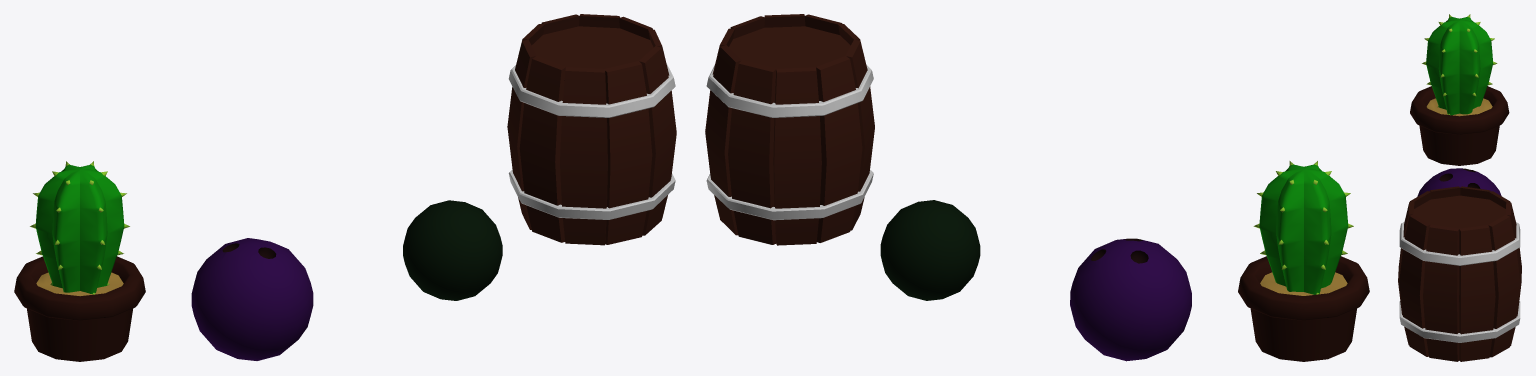
The model's file is BowlingBall.FBX.
The picture shows the model from 3 angles, left to right: view 1: azimuth 30°, elevation 25°; view 2: azimuth 150°, elevation 25°; view 3: azimuth 270°, elevation 25°; orthographic projection. The views are drawn at different scales.
Visible parts, largest first — view 1: Barrel, Cactus, BowlingBall, Melon; view 2: Barrel, Cactus, BowlingBall, Melon; view 3: Barrel, Cactus, BowlingBall.
Boxes of the visible parts, x1,y1,x2,y2 form: Barrel: (507,14,676,245); Cactus: (14,161,145,361); BowlingBall: (191,238,313,360); Melon: (403,200,502,300); Barrel: (705,14,874,245); Cactus: (1238,161,1369,361); BowlingBall: (1070,238,1191,361); Melon: (880,200,980,300); Barrel: (1398,186,1521,361); Cactus: (1410,14,1509,165); BowlingBall: (1417,168,1501,196).
Bounding box in the file's own units: 17.3 × 5.91 × 3.82.
